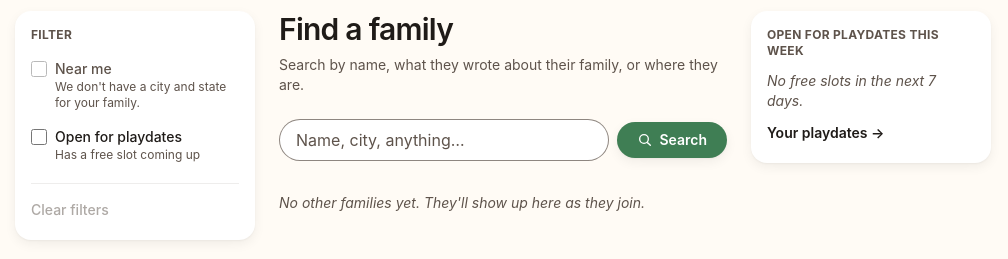
Test: SearchPage › rejects too-short queries client-side without firing the API
This screenshot has width=1008, height=259.
Step 1. Type "a" into the field named "search" → (444, 140), box [279,119,610,161]
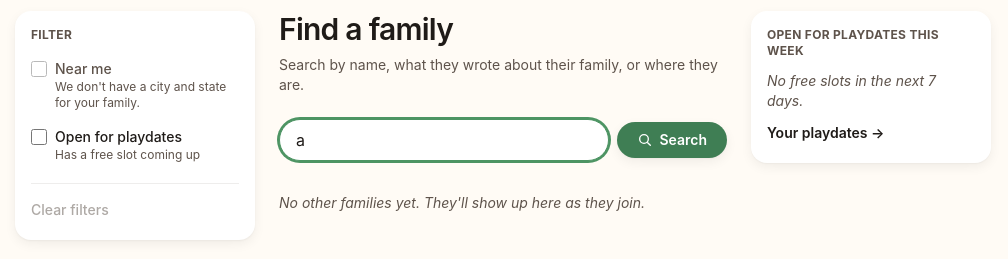
Step 2. Click the button "Search" → (672, 140), box [618,122,727,158]
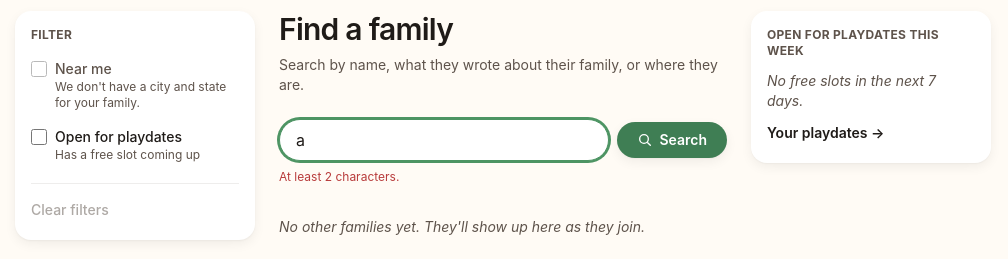
Result: the text "At least 2 characters." is shown at [279,169,399,184]
